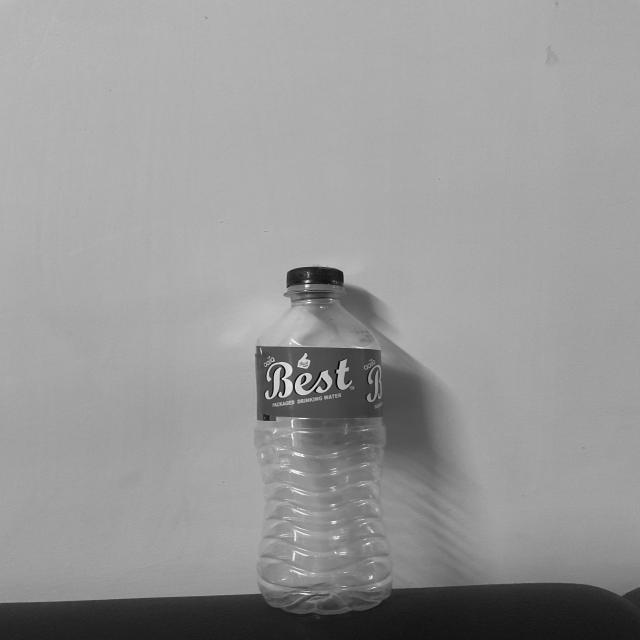Good-cap-Df0S: (282, 266, 347, 295)
